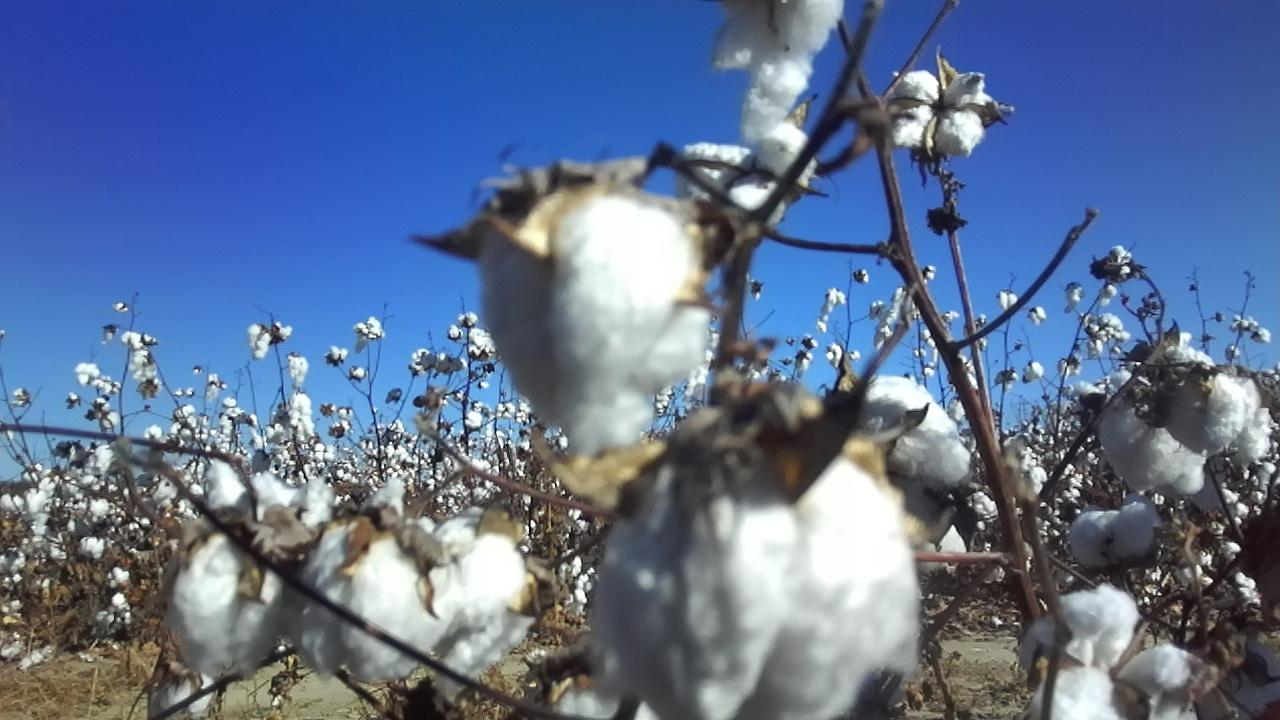cotton_ready: (596, 459, 922, 720), (479, 194, 712, 454), (299, 519, 452, 683), (415, 519, 539, 702), (707, 0, 845, 144), (168, 530, 296, 678), (1049, 589, 1190, 720), (677, 124, 814, 237), (848, 374, 974, 485), (1098, 386, 1207, 497), (204, 462, 328, 546), (893, 70, 989, 157), (1168, 370, 1252, 459), (1072, 500, 1154, 578), (555, 682, 661, 720), (1144, 345, 1217, 397), (144, 665, 212, 720)
